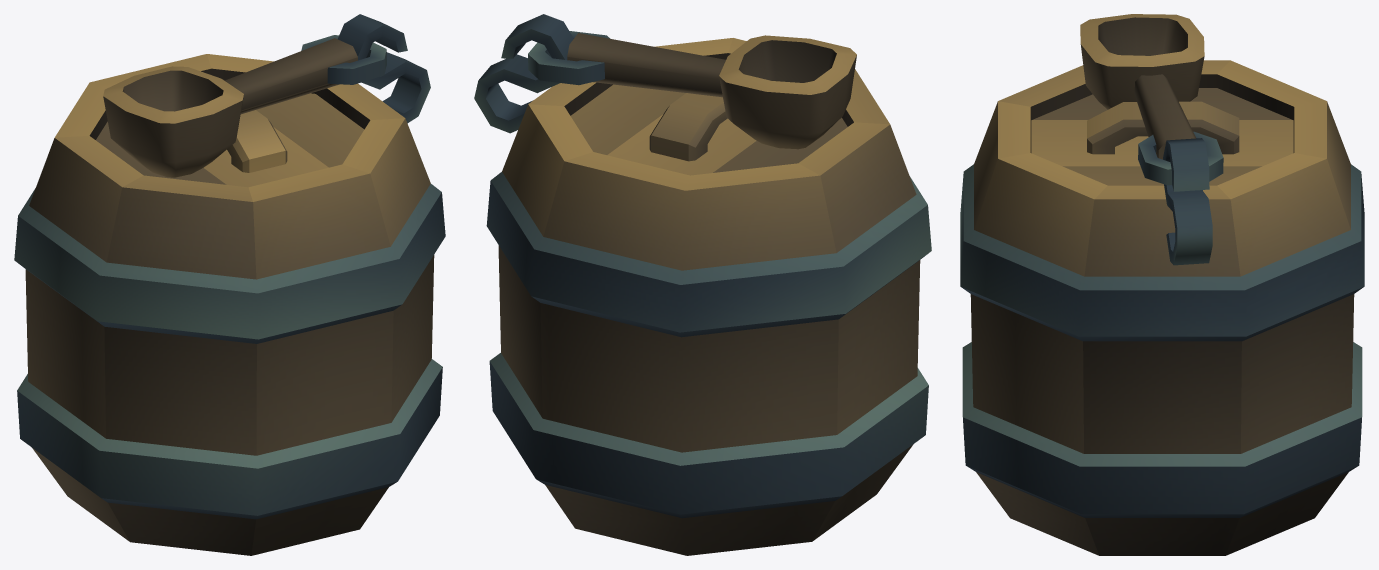
The model's file is barrel_water.fbx.
3 views of the same model, side by side, from view 1: azimuth 30°, elevation 25°; view 2: azimuth 150°, elevation 25°; view 3: azimuth 270°, elevation 25° (orthographic). The views are drawn at different scales.
Visible parts, largest first — view 1: barrel_water; view 2: barrel_water; view 3: barrel_water.
Part boxes in pixels (box(x1,y1,x2,y2)): barrel_water: box(14, 14, 445, 555); barrel_water: box(474, 14, 931, 555); barrel_water: box(960, 14, 1364, 555).
Bounding box in the file's own units: 102 × 108 × 93.15.
